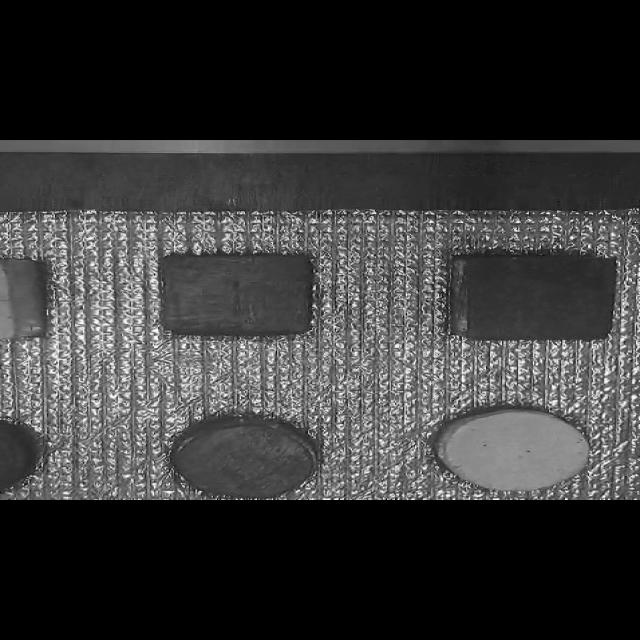bcube: (143, 242, 337, 351)
rcircle: (165, 408, 328, 503)
rcube: (428, 242, 626, 357)
